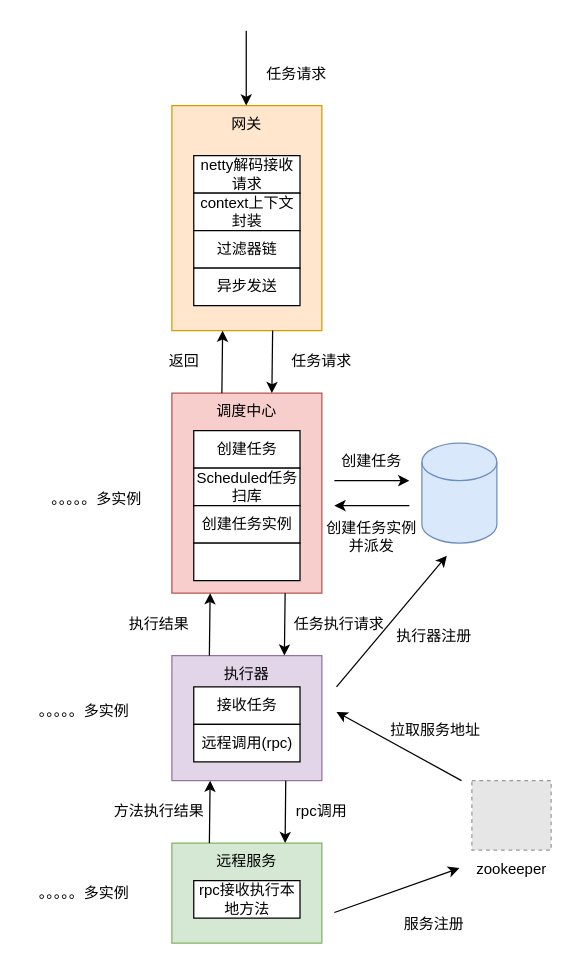
This 583x965 diagram has some shape labels left out. Grey dashed boxes stand in for pictures. Here are the shapes that lost their labels. From the top down, the box of each, then its label:
(421, 442, 497, 543): 数据库
(192, 542, 300, 581): 任务派发
